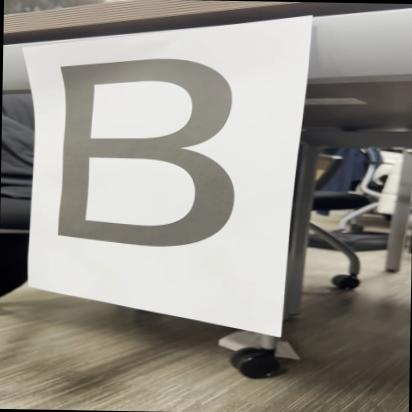seat: (35, 52, 259, 254)
